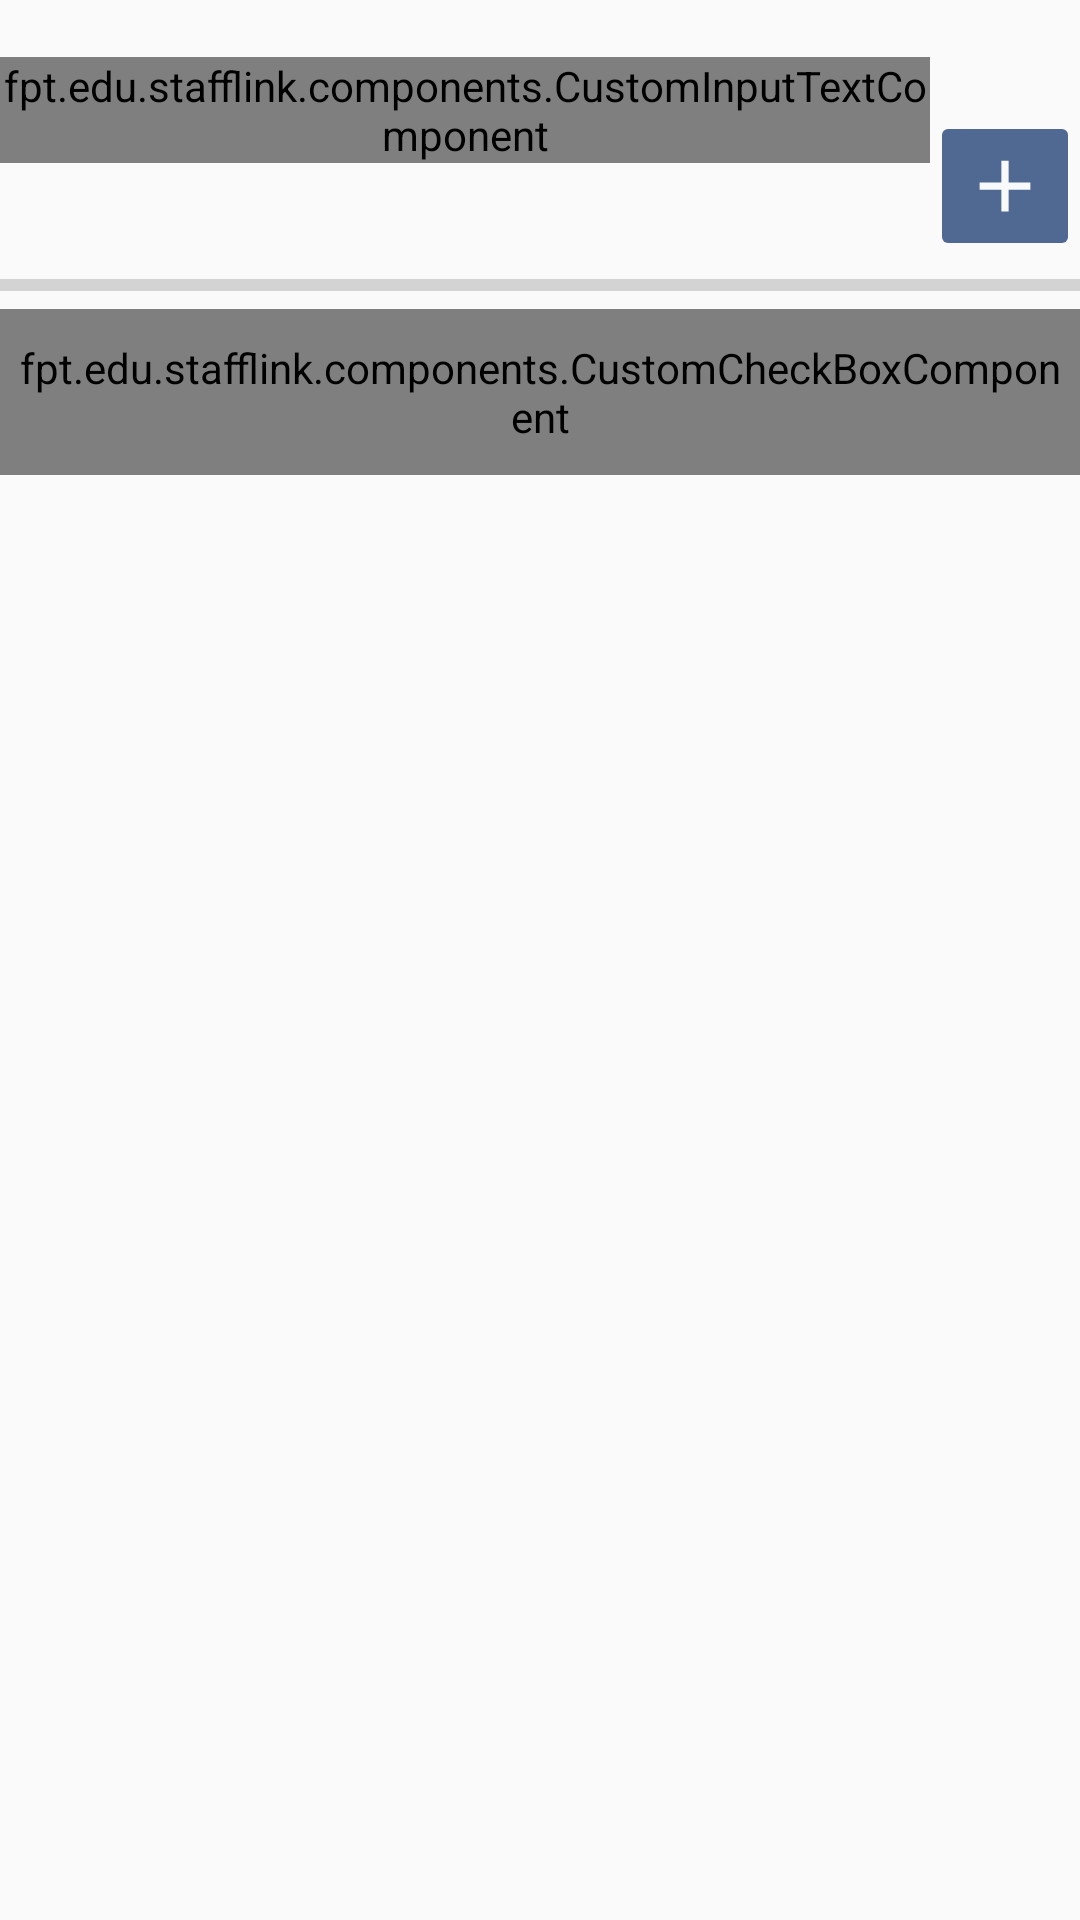

Icons on this 1080 x 1920 Android screen, each with its box as box(x1, y1, x2, y2):
add: box(942, 129, 1068, 243)
